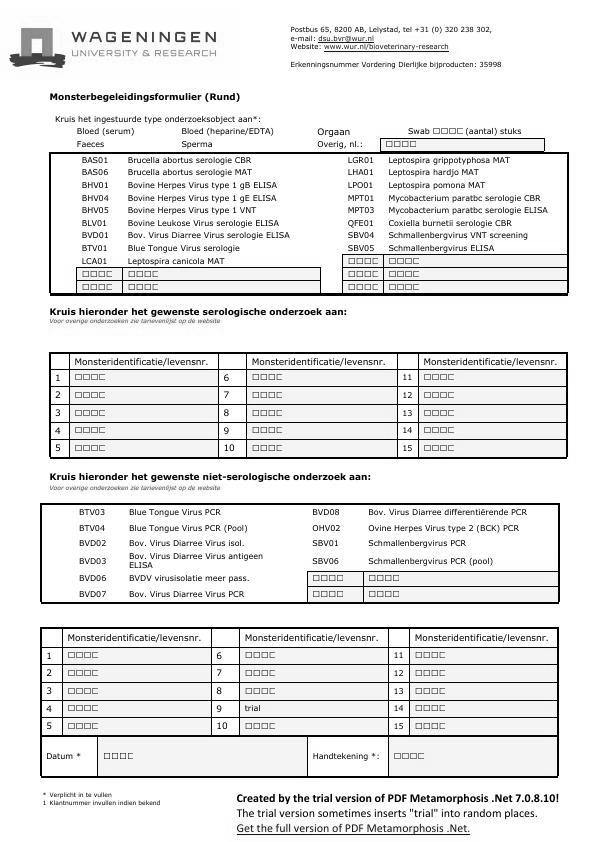input: (378, 135, 547, 150)
table: (35, 622, 563, 780), (48, 151, 571, 299), (44, 349, 571, 462), (35, 501, 564, 608)
text: (232, 791, 564, 838), (49, 111, 369, 149), (287, 22, 508, 74), (45, 467, 378, 493), (44, 305, 352, 329), (44, 87, 245, 104), (37, 787, 165, 810), (404, 123, 524, 136)
